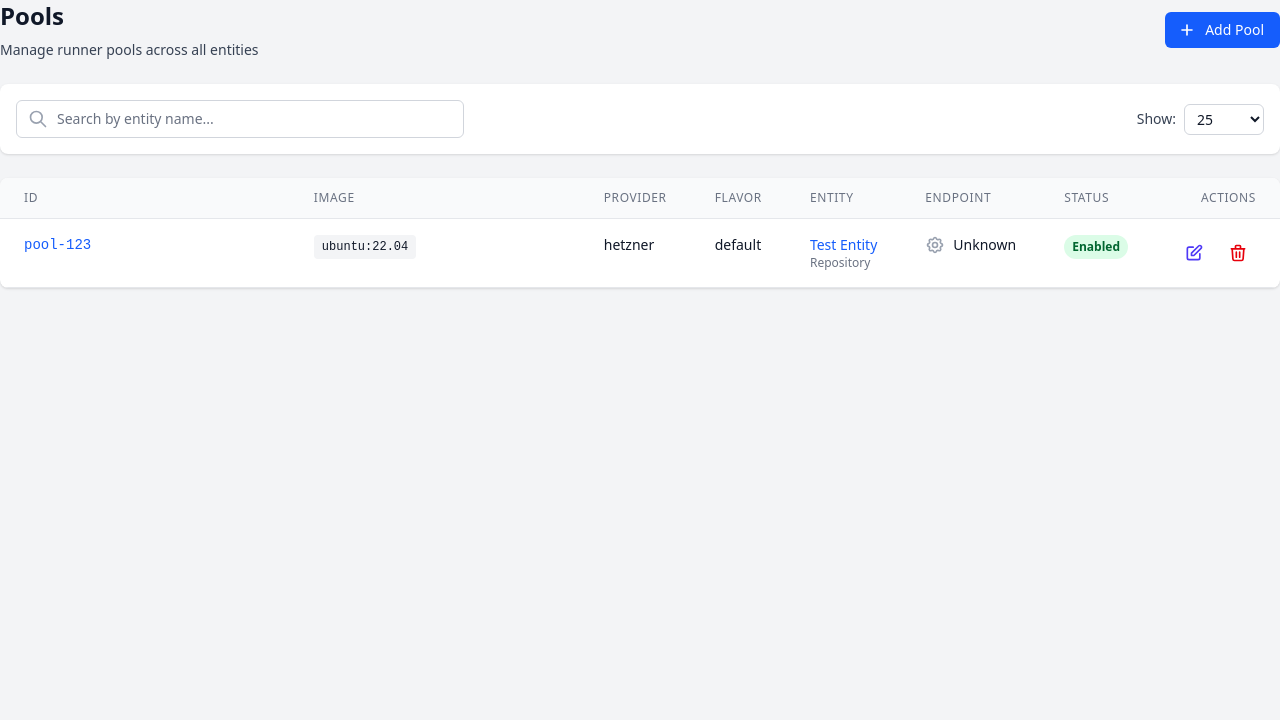
it: Comprehensive Integration Tests for Pools Page › Pool Creation Integration › should handle pool creation workflow
The width and height of the screenshot is (1280, 720).
Click add button should show create modal
Click the button "Add Pool" at [1223, 30], box x1=1165 y1=12 x2=1279 y2=48
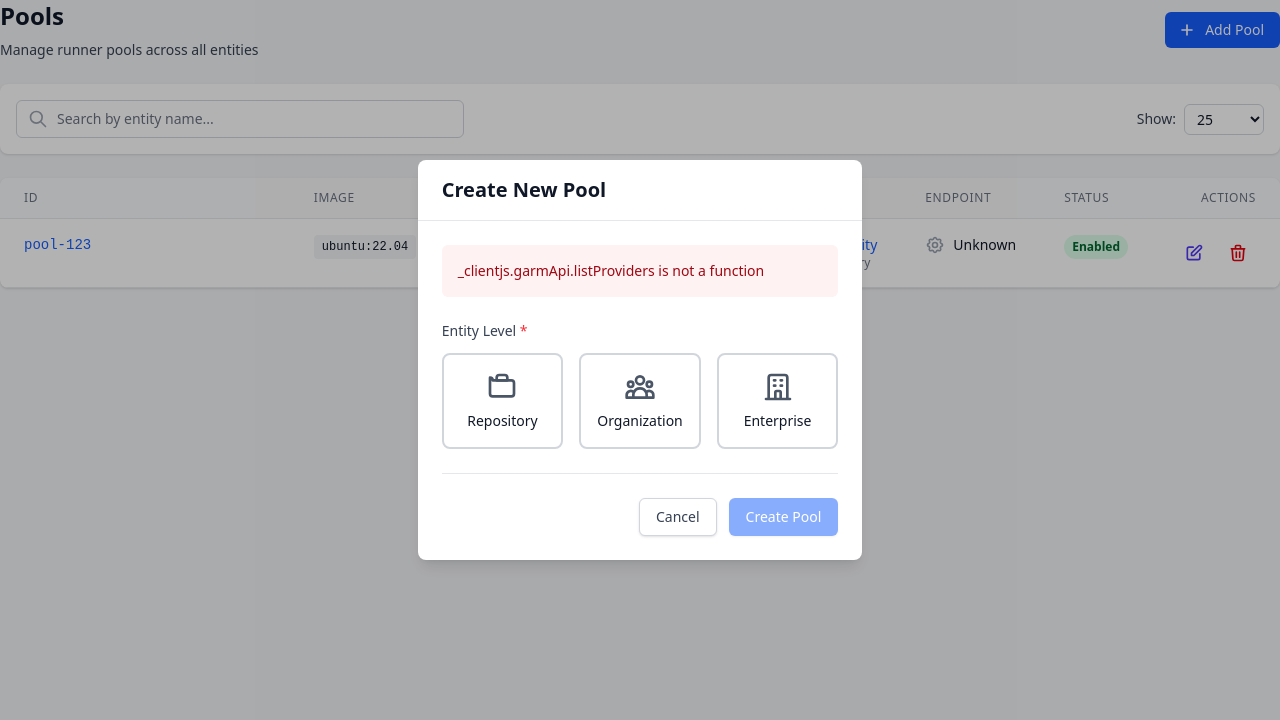
Now the button "Create Pool" is shown, box x1=729 y1=498 x2=838 y2=536
